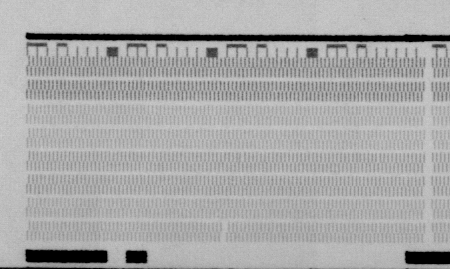Broken hole: (218, 221, 230, 242)
Oblique printing: (237, 150, 247, 163)
